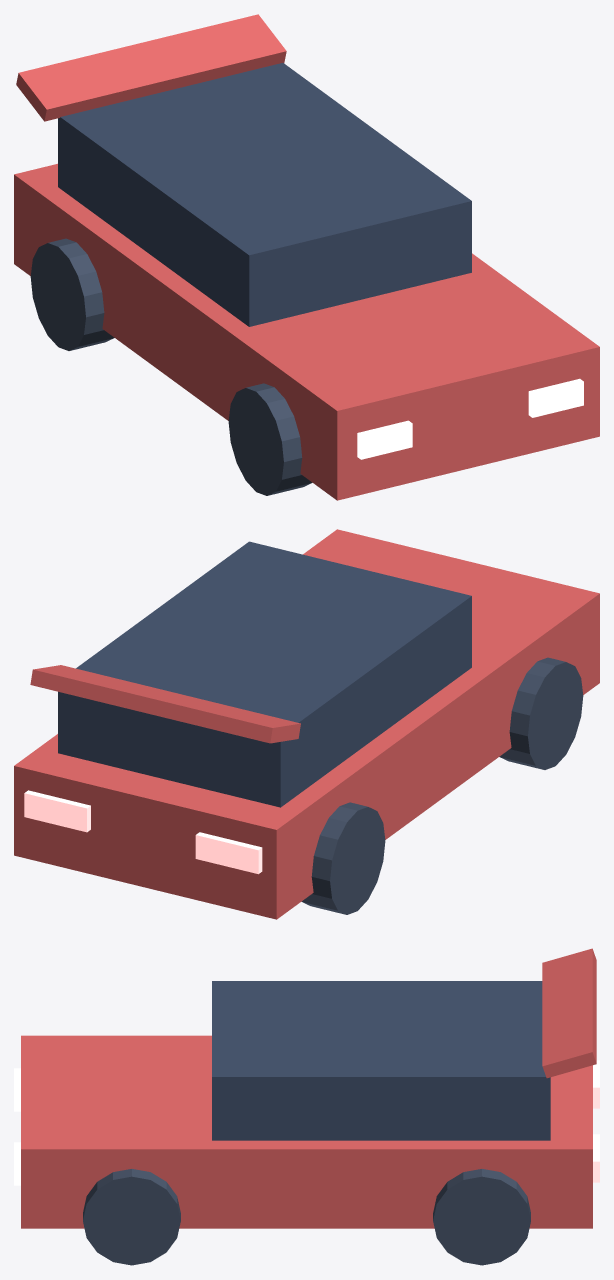
File: forrester.glb
3 renders of one model, top to bottom at view 1: azimuth 30°, elevation 25°; view 2: azimuth 150°, elevation 25°; view 3: azimuth 270°, elevation 25°, orthographic. The views are drawn at different scales.
Parts seen in each view (by area): view 1: chassis, cabin, spoiler, wheel_2, wheel_0, headlight_0, headlight_1; view 2: cabin, chassis, spoiler, wheel_0, wheel_2, taillight_0, taillight_1; view 3: chassis, cabin, wheel_1, wheel_3, spoiler.
Part boxes in pixels (bbox=[...]): chassis: bbox=[14, 163, 599, 500]; cabin: bbox=[58, 63, 471, 326]; spoiler: bbox=[16, 14, 286, 121]; wheel_2: bbox=[30, 238, 114, 350]; wheel_0: bbox=[228, 383, 312, 495]; headlight_0: bbox=[357, 420, 412, 459]; headlight_1: bbox=[528, 378, 583, 417]; cabin: bbox=[58, 541, 471, 807]; chassis: bbox=[14, 529, 599, 919]; spoiler: bbox=[30, 665, 300, 743]; wheel_0: bbox=[499, 657, 583, 769]; wheel_2: bbox=[301, 802, 385, 914]; taillight_0: bbox=[195, 832, 262, 874]; taillight_1: bbox=[24, 790, 90, 832]; chassis: bbox=[21, 1035, 592, 1228]; cabin: bbox=[212, 981, 550, 1140]; wheel_1: bbox=[83, 1169, 180, 1265]; wheel_3: bbox=[433, 1169, 530, 1265]; spoiler: bbox=[542, 948, 596, 1078].
Bounding box in the file's own units: 2.62 × 1.87 × 5.02.
